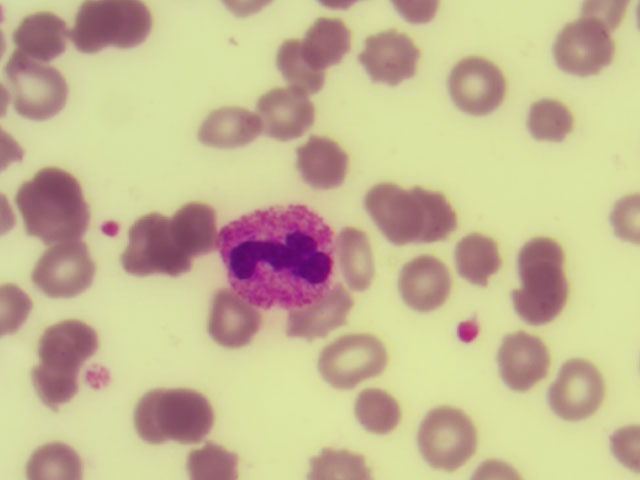Platlets: (459, 318, 481, 343), (90, 366, 110, 392), (101, 222, 119, 236)
RBC: (546, 354, 603, 425), (419, 405, 480, 471), (73, 3, 153, 53), (6, 60, 72, 120), (360, 26, 423, 86), (30, 245, 99, 299), (206, 293, 267, 351), (369, 183, 423, 248), (512, 268, 573, 324), (315, 340, 387, 387), (449, 55, 505, 115), (329, 226, 379, 292), (396, 258, 455, 313), (556, 22, 615, 77), (19, 170, 81, 221), (164, 385, 216, 445), (289, 287, 351, 336), (273, 37, 327, 91), (501, 332, 549, 391), (410, 184, 457, 244), (306, 10, 352, 71), (174, 196, 218, 258), (349, 392, 408, 437), (260, 89, 313, 138), (45, 319, 99, 366), (37, 201, 92, 246), (31, 361, 81, 410), (17, 11, 69, 58), (201, 108, 260, 147), (454, 234, 499, 285), (154, 219, 192, 279), (128, 211, 163, 276), (303, 140, 349, 189), (29, 442, 86, 480), (310, 446, 371, 480), (181, 447, 243, 480), (519, 234, 566, 276), (611, 191, 640, 248), (138, 387, 166, 446), (532, 101, 573, 141), (4, 285, 31, 340), (612, 421, 640, 470), (582, 1, 629, 30), (476, 453, 523, 480), (389, 1, 438, 26), (2, 129, 26, 175), (217, 1, 275, 17), (1, 192, 18, 234), (313, 2, 359, 11)
WBC: (222, 200, 341, 313)
